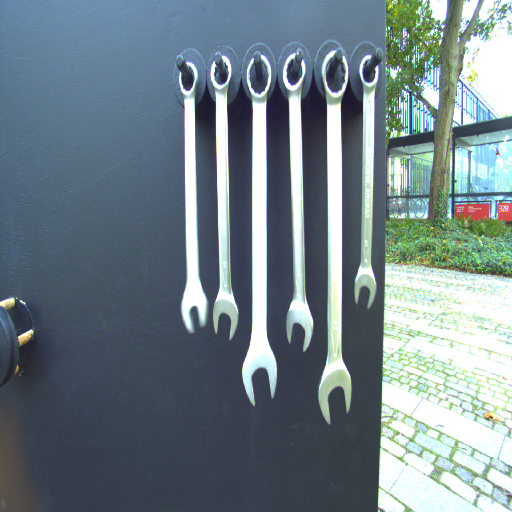bottom: (240, 343, 279, 411), (316, 362, 354, 427), (283, 298, 317, 354), (178, 285, 212, 336), (210, 290, 239, 341), (353, 264, 378, 312)
top: (244, 53, 276, 108), (321, 48, 349, 107), (281, 51, 309, 105), (357, 52, 382, 97), (209, 53, 234, 96), (175, 59, 202, 98)
